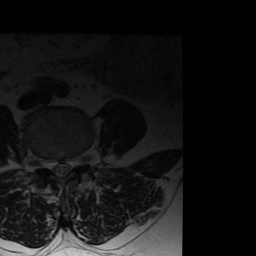CCS_normal: (57, 154, 65, 181)
LFS_normal: (73, 149, 81, 172)
LLS_normal: (65, 154, 73, 176)
RFS_normal: (42, 152, 51, 174)
RLS_normal: (50, 154, 58, 177)
